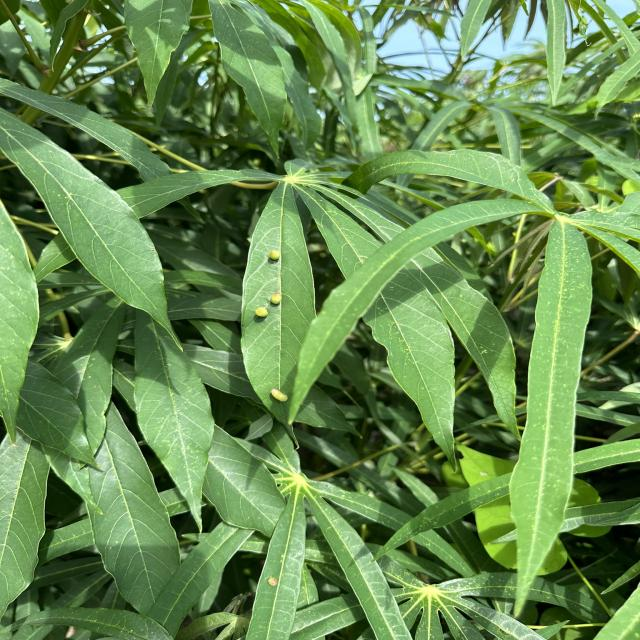Mosca: (249, 374, 290, 423), (249, 283, 289, 323), (255, 565, 293, 598), (267, 240, 290, 273)
